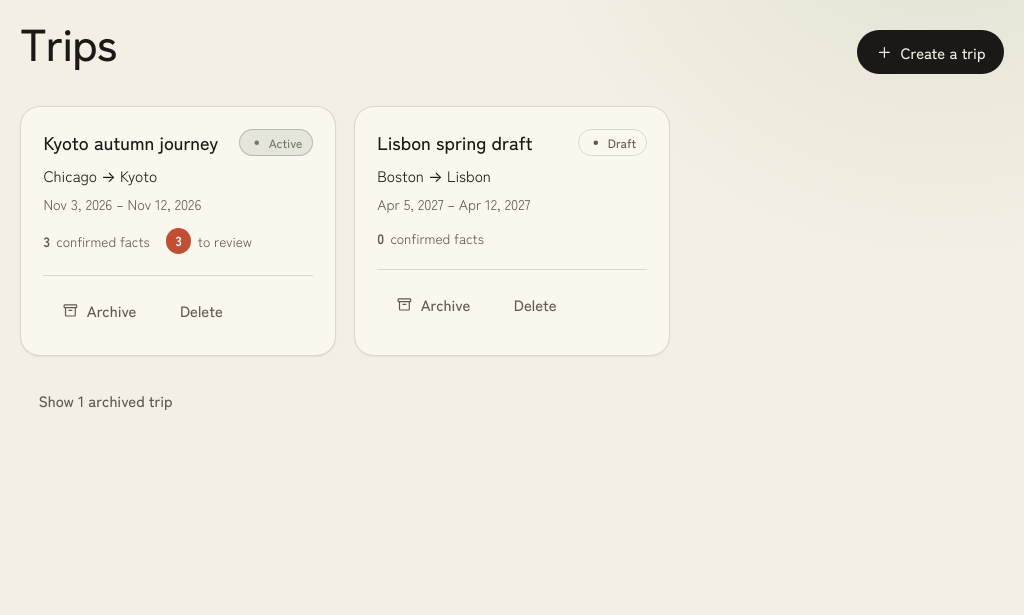
Test: trip open budget › still mounts the deferred sections once they are reached
What coordinates should you click on to do the following:
click the button with aria-label "Open Kyoto autumn journey"
I would click on:
 (131, 142)
Its box is top-left (43, 129), bottom-right (218, 155).
(page scrolled)
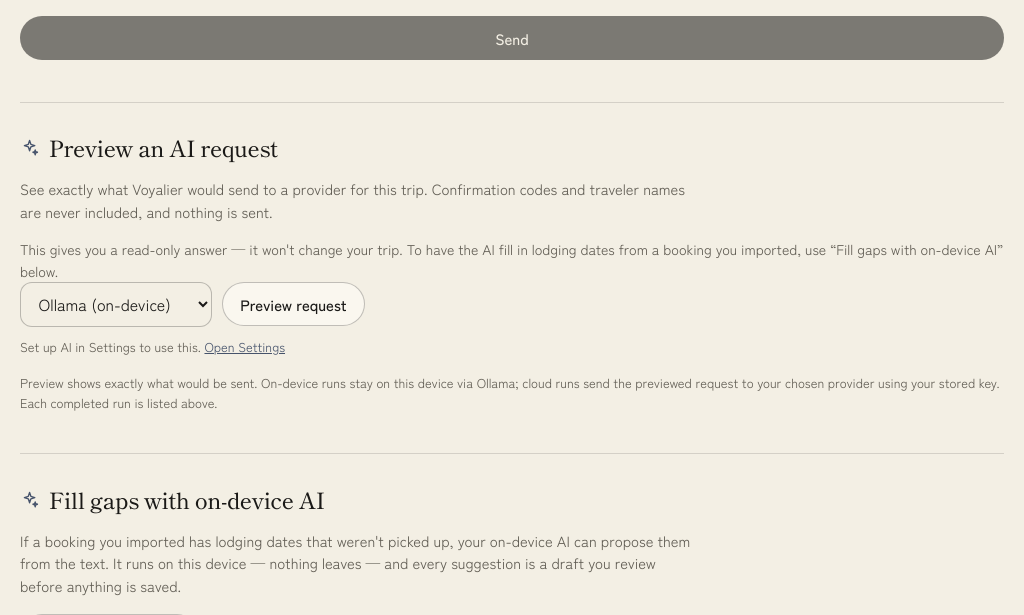
Expected: the element "Preview an AI request" is shown, top-left (20, 102), bottom-right (1004, 412)
